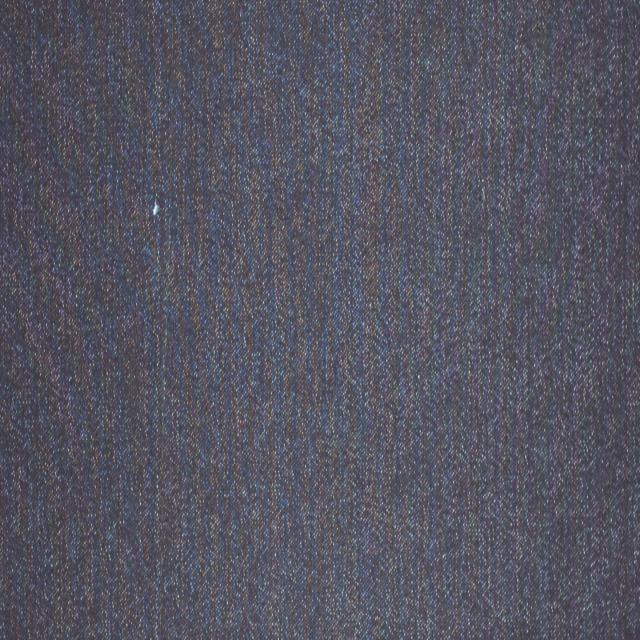Knot: (152, 201, 160, 216)
